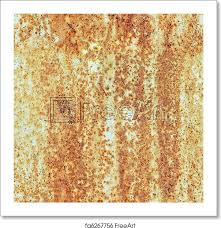rust: (14, 14, 204, 202)
